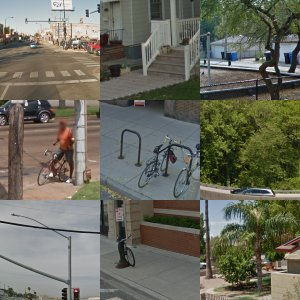汽車: (233, 107, 267, 124), (46, 288, 86, 299), (179, 238, 198, 254), (1, 280, 24, 293), (153, 186, 169, 198)
紅綠燈: (39, 133, 64, 169)
行人穿越道: (201, 68, 283, 100), (242, 125, 296, 160), (3, 67, 98, 79), (18, 48, 55, 56)
